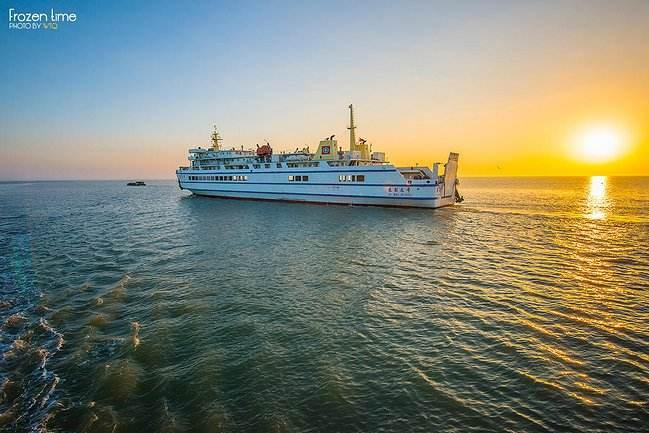youlun: (170, 112, 465, 210)
